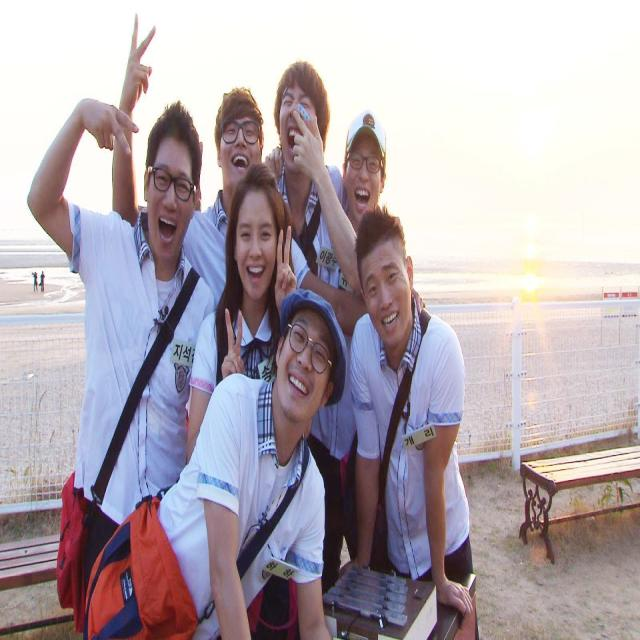body: (24, 93, 223, 639), (110, 7, 426, 344), (81, 285, 350, 640), (335, 198, 480, 640), (292, 105, 388, 612), (260, 58, 348, 596), (185, 158, 301, 463), (23, 245, 53, 304)
